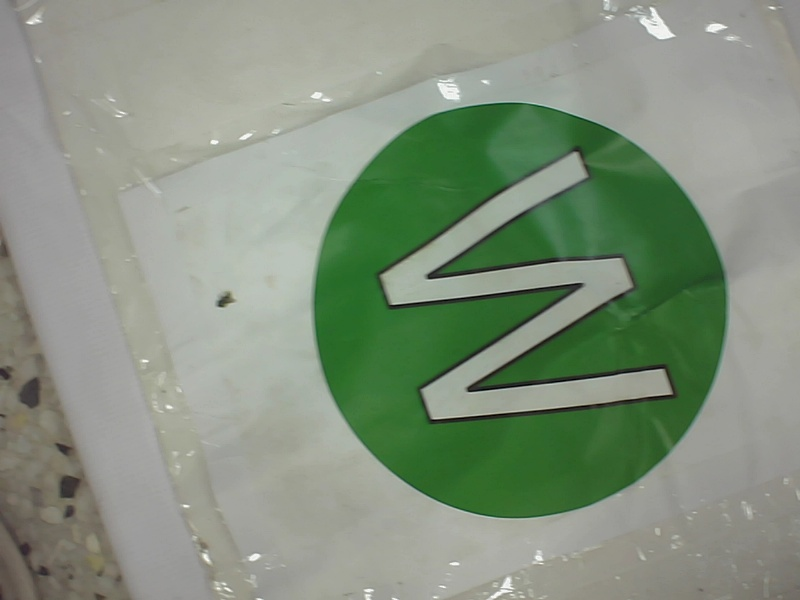areaB: (312, 93, 737, 525)
